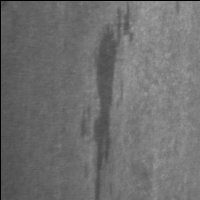inclusion: (92, 3, 137, 200)
